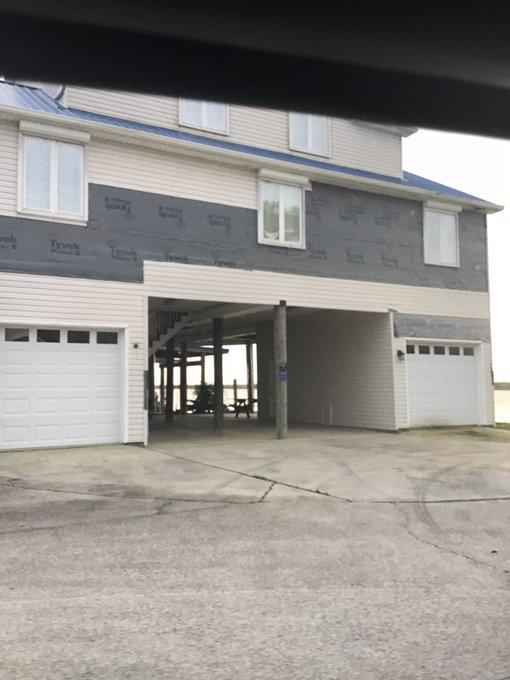minor: (0, 67, 507, 441)
